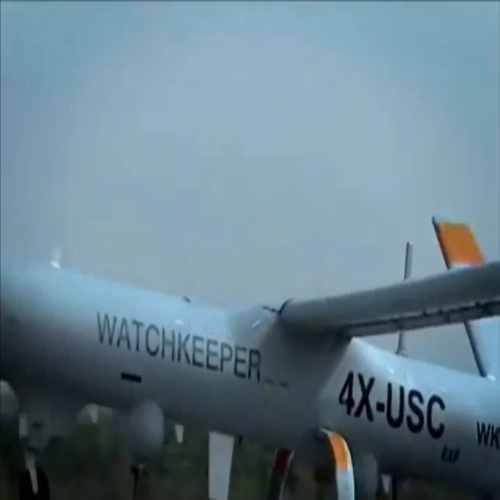uav: (3, 252, 500, 490)
